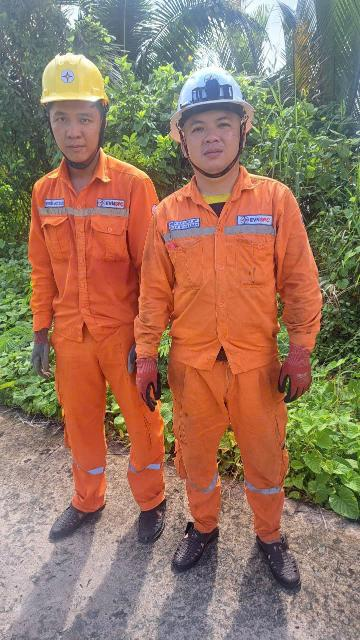gloves: (270, 338, 323, 410), (131, 353, 167, 417), (26, 329, 62, 381), (112, 337, 142, 376)
helmet: (159, 57, 272, 135), (22, 48, 123, 114)
shoes: (252, 523, 322, 594), (164, 513, 216, 592), (38, 492, 114, 546), (133, 486, 174, 554)
